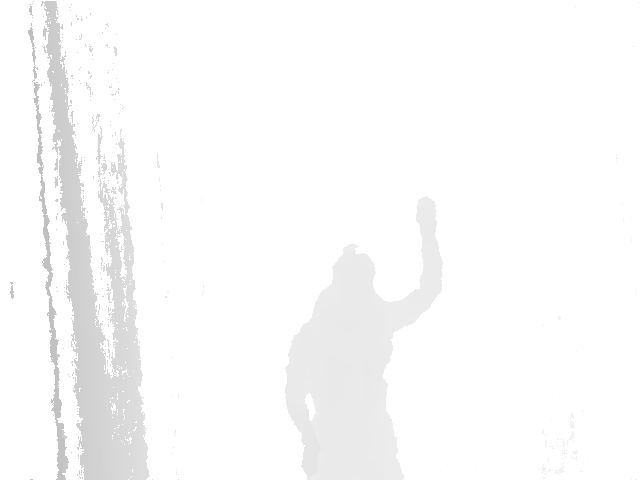hand: (415, 194, 437, 232)
head: (327, 244, 378, 302)
person: (284, 195, 445, 480)
